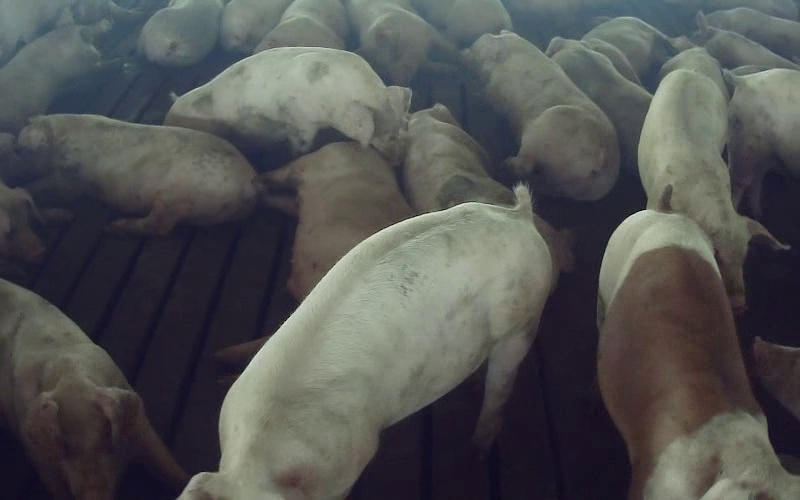pig: (184, 185, 553, 499), (599, 188, 799, 499), (638, 69, 777, 308), (18, 114, 255, 234), (165, 47, 410, 157), (465, 32, 619, 200), (257, 142, 412, 300), (546, 38, 651, 174), (0, 9, 109, 131), (402, 104, 513, 213), (348, 0, 457, 85), (581, 17, 676, 83), (253, 0, 347, 52)
